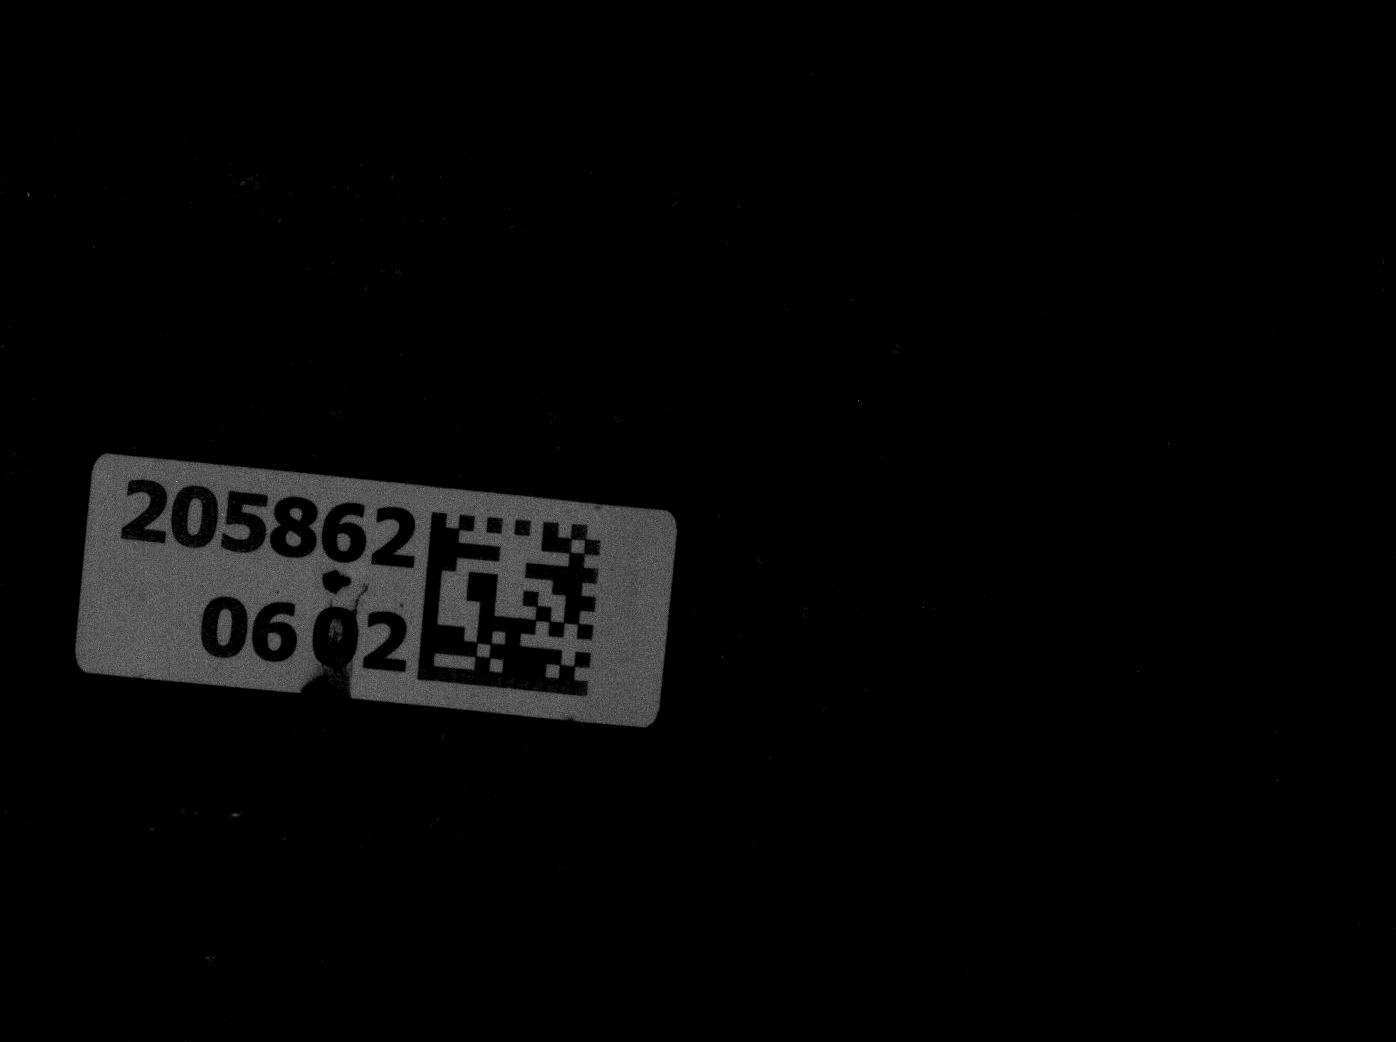data matrix: (412, 501, 612, 706)
